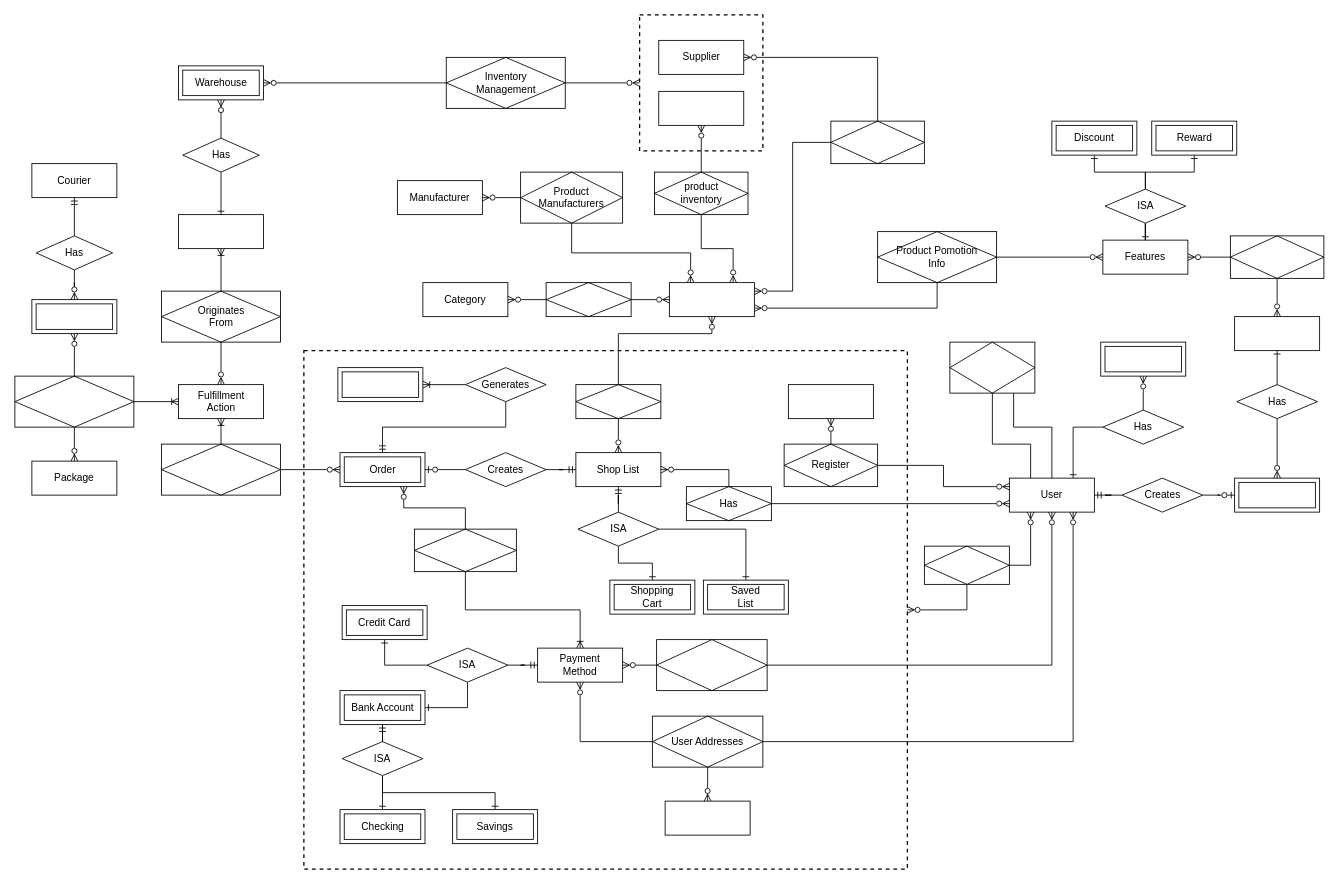
The diagram is 1339 pixels wide and 885 high, and some of its shapes have lost their labels. Here are the shapes that lost their labels. From the top down, the box of each, then its label:
(658, 91, 744, 125): Inventory
(830, 120, 924, 164): Product Suppliers
(178, 214, 264, 249): Region
(1230, 235, 1324, 278): Supported Feature
(31, 299, 117, 334): Shipment
(545, 282, 631, 317): Product Category
(669, 282, 754, 317): Product
(1234, 316, 1320, 351): Account Type
(949, 341, 1035, 393): Registered User
(1100, 341, 1186, 376): Email
(14, 375, 134, 427): Packages for Fulfillment
(337, 367, 423, 402): Receipt
(575, 384, 661, 419): Contains
(788, 384, 873, 419): Mailing List
(161, 443, 280, 495): Order Fulfillment
(1234, 477, 1320, 512): Account
(414, 528, 516, 572): Payment Info
(924, 545, 1009, 584): Session
(656, 639, 767, 691): User Payment Methods
(664, 800, 750, 835): Address
